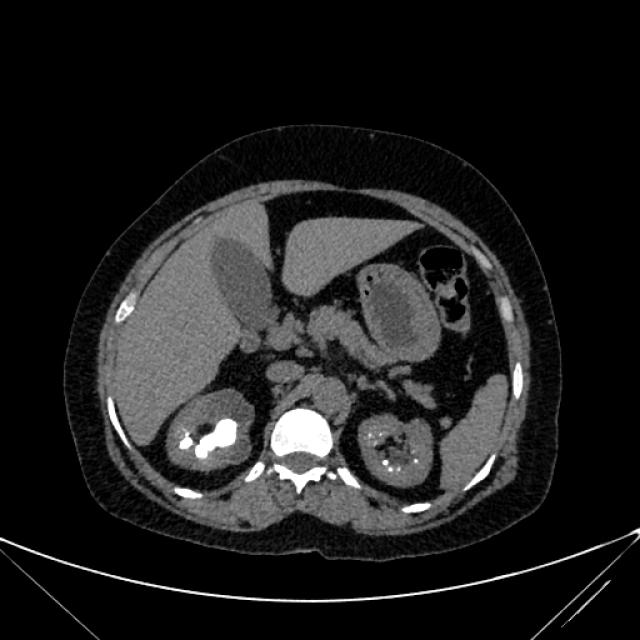kidney: (164, 386, 254, 474), (355, 409, 436, 490)
stone: (200, 418, 242, 449), (178, 432, 194, 451), (193, 444, 210, 459), (412, 454, 419, 466), (388, 465, 394, 474), (397, 465, 403, 474), (382, 458, 389, 465)
